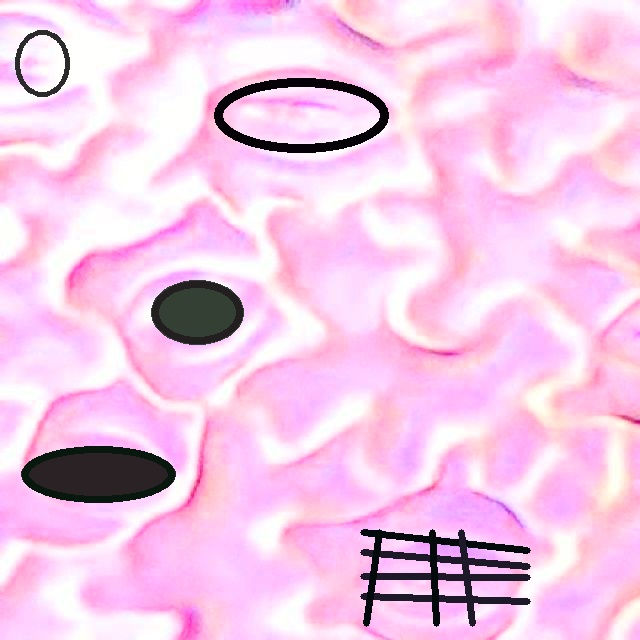close: (151, 281, 242, 343)
open: (360, 529, 530, 626), (213, 77, 389, 152), (21, 445, 175, 502), (13, 28, 70, 97)
